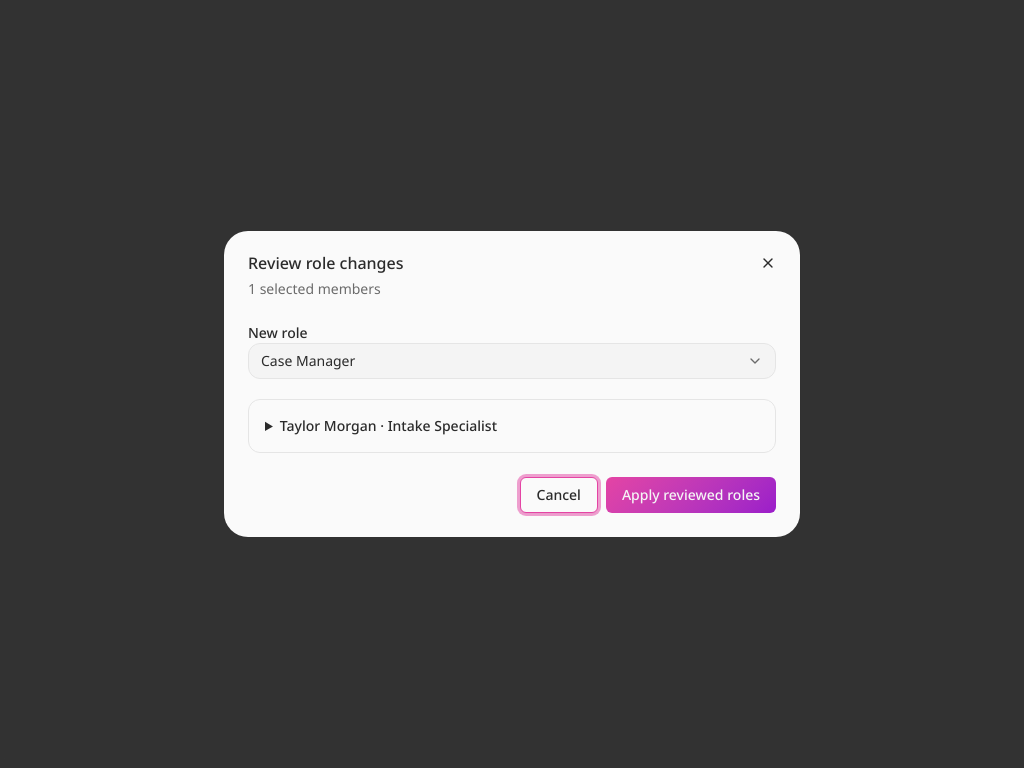
bulk member role review › preserves a partial failure for review rather than reporting completion
Expected: the dropdown named "New role" is shown, [248,343,776,379]
Click the button "Apply reviewed roles".
click(691, 495)  # box [606,477,776,513]
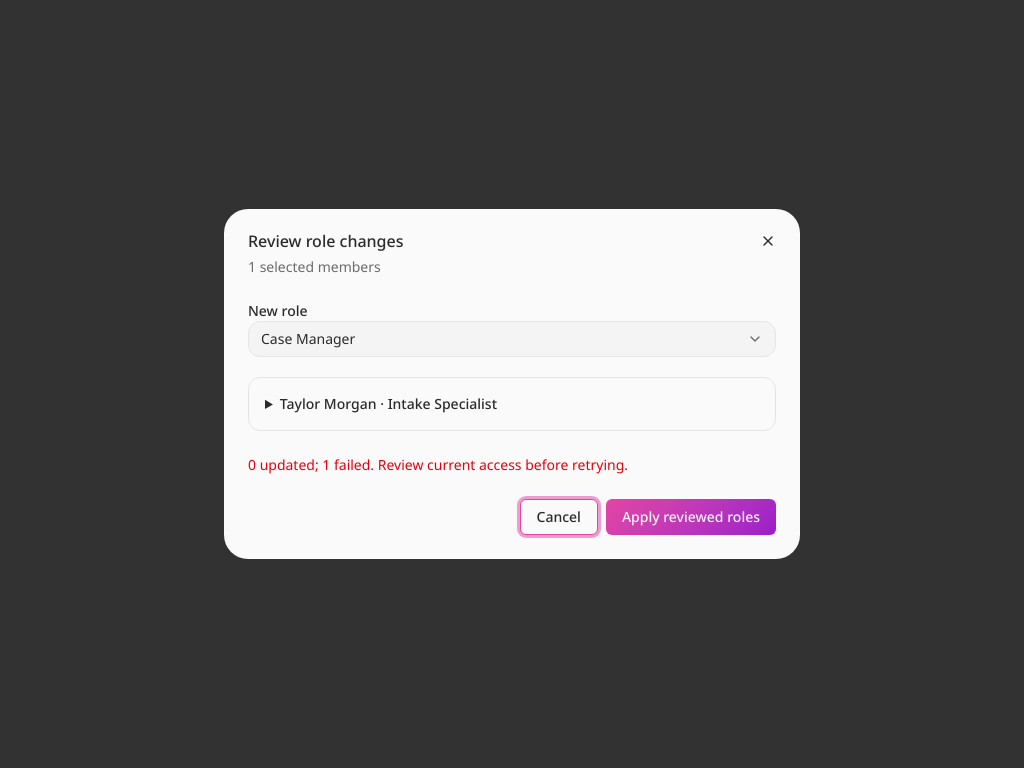
Now the message shows "0 updated; 1 failed", box [248,455,628,474]
